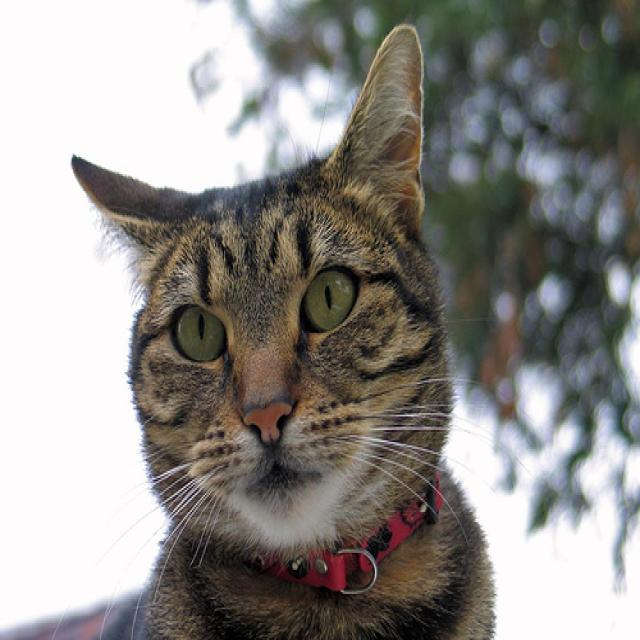left eye: (298, 261, 360, 335)
